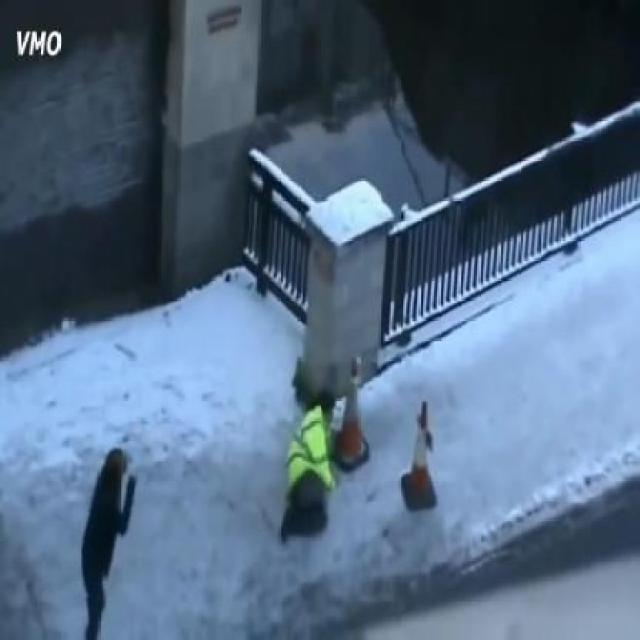fall: (281, 382, 337, 549)
